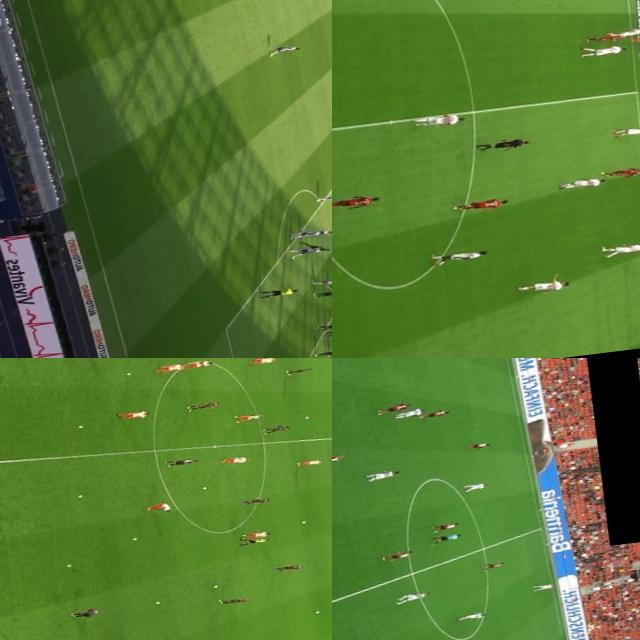ball: (128, 536, 138, 542), (62, 562, 72, 568), (298, 519, 308, 524), (153, 600, 162, 605), (74, 493, 82, 498), (198, 484, 208, 488), (312, 610, 321, 614), (76, 424, 82, 430), (302, 414, 310, 418), (211, 585, 218, 588), (122, 372, 129, 375)
player: (428, 248, 487, 266), (332, 192, 384, 211), (452, 196, 509, 213), (408, 112, 466, 128), (518, 276, 569, 294), (582, 32, 634, 46), (601, 240, 640, 258), (558, 174, 608, 188), (597, 163, 640, 179), (582, 44, 630, 58), (297, 238, 332, 255), (391, 589, 433, 602), (412, 408, 451, 422), (371, 401, 412, 414), (265, 42, 302, 56), (375, 550, 417, 562), (390, 408, 427, 421), (114, 407, 150, 420), (160, 456, 196, 467), (216, 594, 249, 606), (614, 124, 640, 139), (292, 245, 323, 257), (68, 606, 99, 618), (144, 501, 172, 514), (299, 225, 332, 236), (217, 455, 250, 466), (368, 469, 403, 479), (289, 230, 323, 240), (184, 400, 218, 410), (456, 611, 490, 621), (152, 364, 184, 374), (180, 360, 212, 370), (229, 412, 261, 422), (238, 496, 268, 506), (461, 481, 488, 492), (274, 562, 303, 572), (481, 559, 506, 570), (260, 425, 290, 434), (280, 367, 310, 375), (464, 440, 488, 450), (531, 582, 555, 592), (432, 522, 458, 531), (309, 277, 332, 287), (332, 453, 348, 467), (312, 194, 332, 205), (246, 358, 275, 365), (314, 348, 332, 358), (314, 287, 332, 297), (316, 320, 332, 331), (612, 32, 640, 38), (325, 279, 332, 290)
